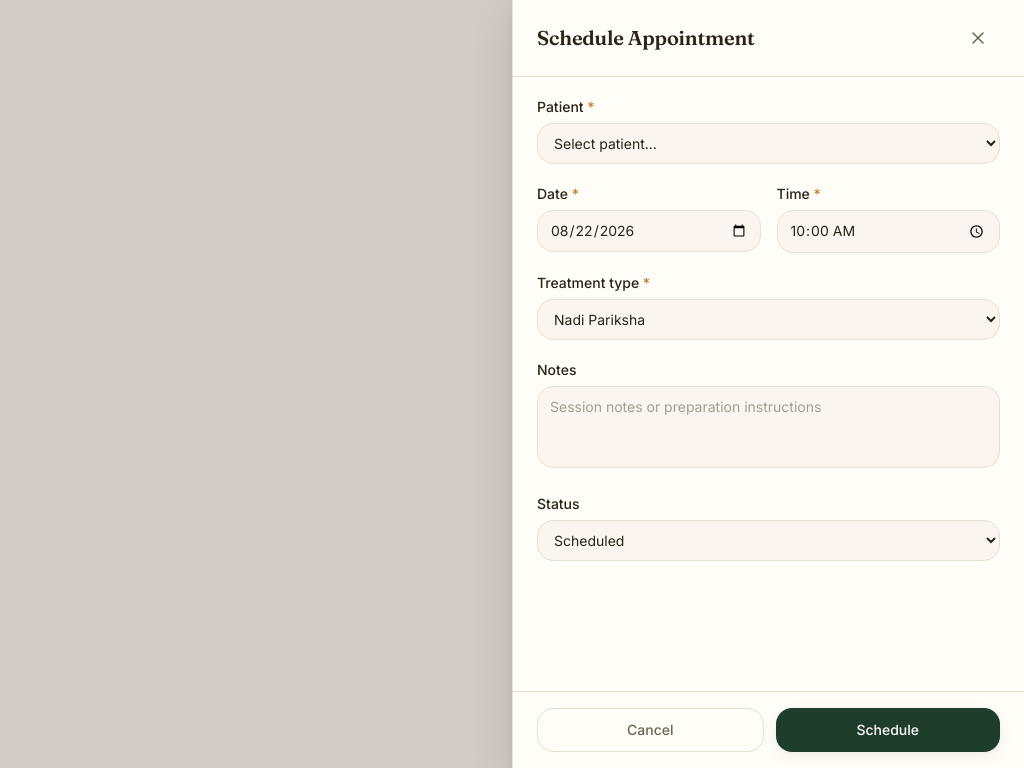
Test case: ScheduleAppointmentDrawer › shows an error instead of staying silent when the POST fails
The width and height of the screenshot is (1024, 768).
Select "Granted Gate Test" in the dropdown labelled "Patient *": (768, 144) [537,123,1000,164]
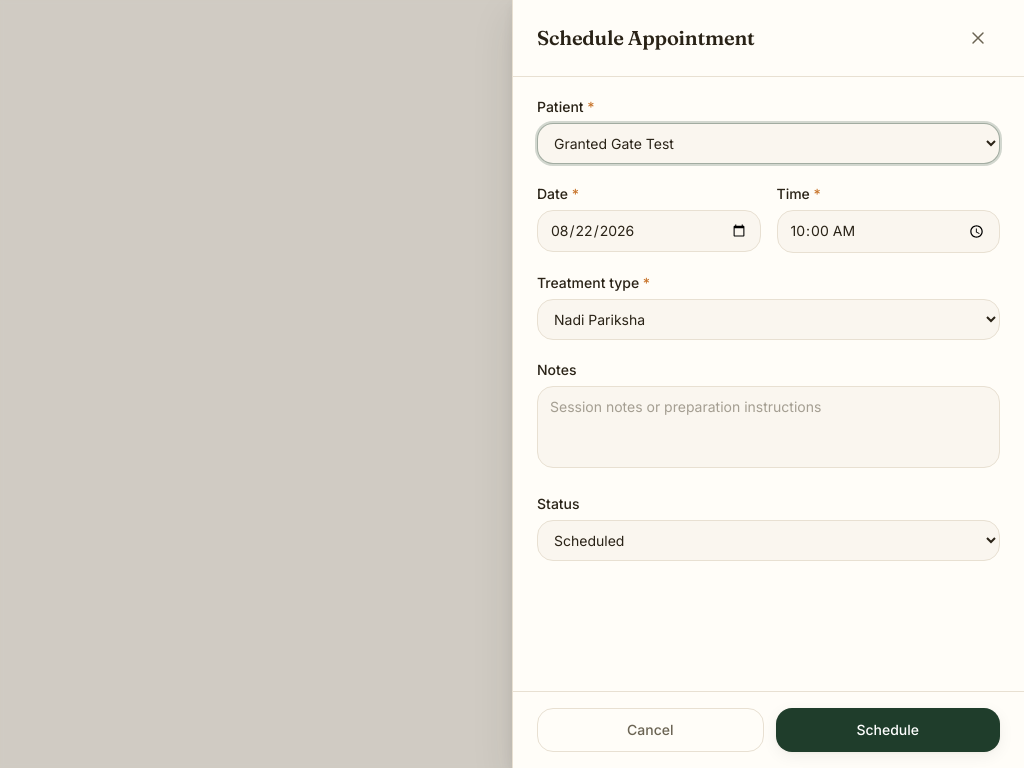
Click the button "Schedule": (888, 730) [776,708,1000,752]
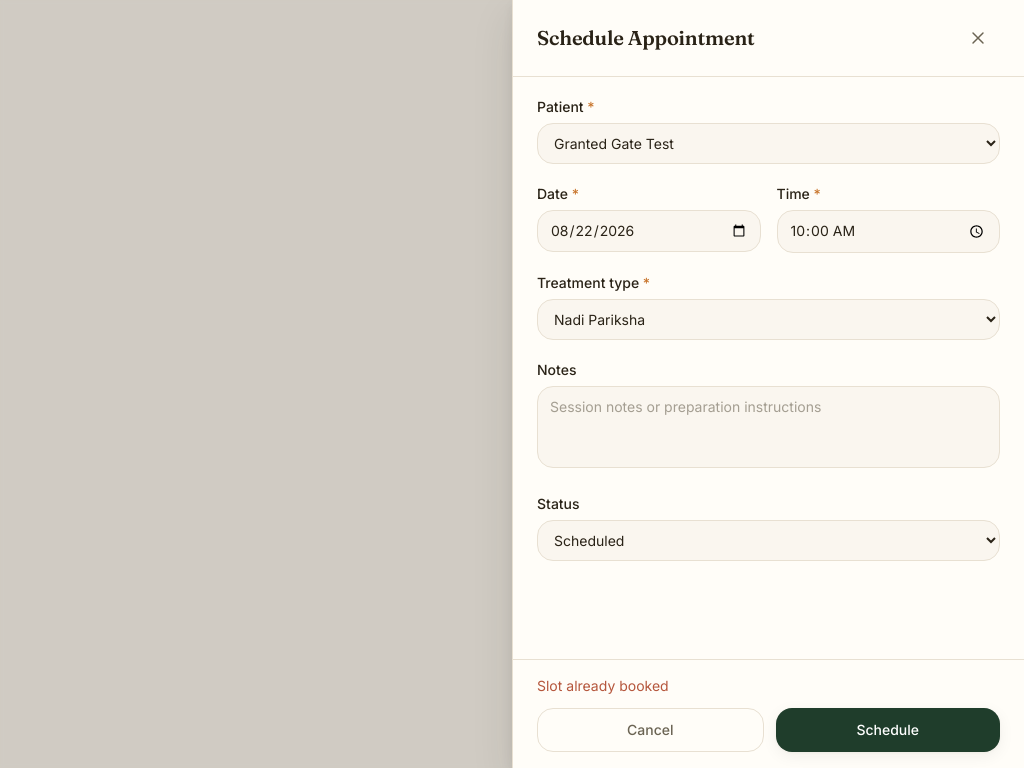
Expected: the dialog is shown, [512,0,1023,767]
Expected: the message reads "Slot already booked", [537,677,669,694]
